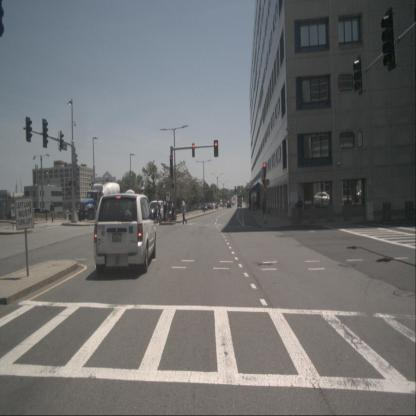cone: (165, 214, 169, 223)
